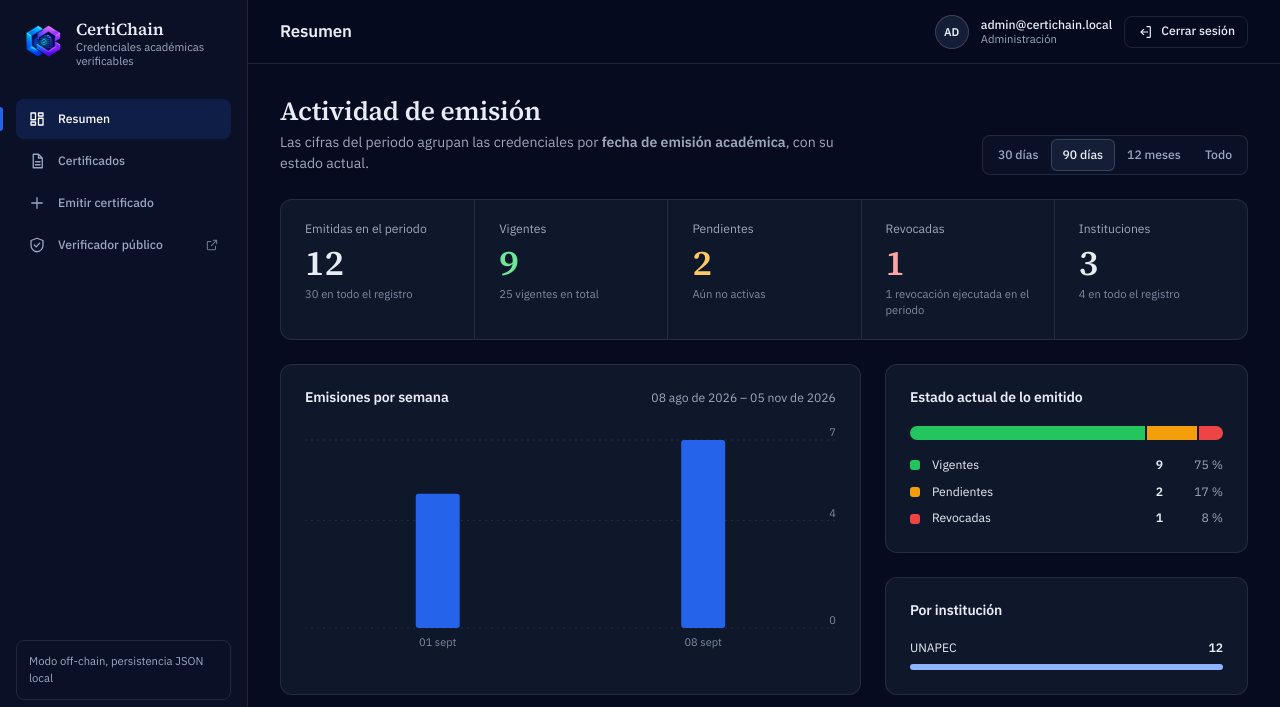
Scenario: login and session › logs out from the shell
Check: the heading "Actividad de emisión" is shown, box [280, 93, 541, 129]
Click the button "Cerrar sesión": click(1186, 32) [1124, 16, 1248, 48]
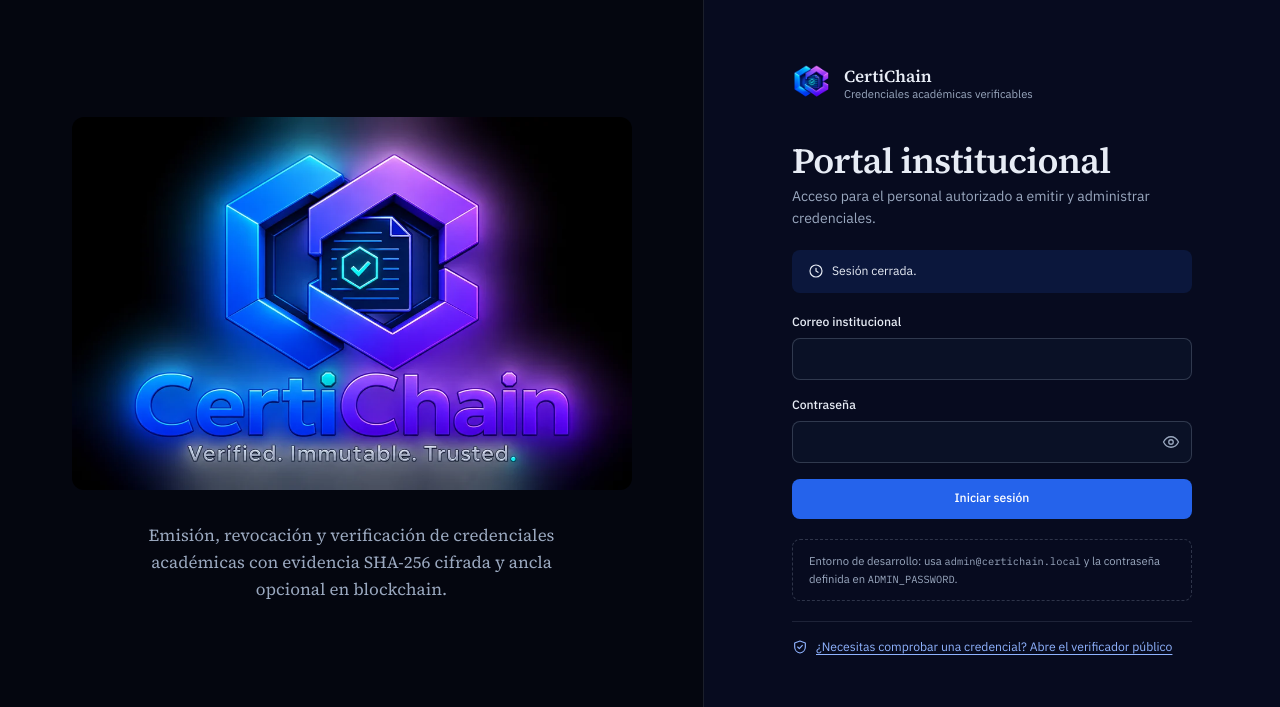
Check: the heading "Portal institucional" is shown, box [792, 136, 1111, 184]
